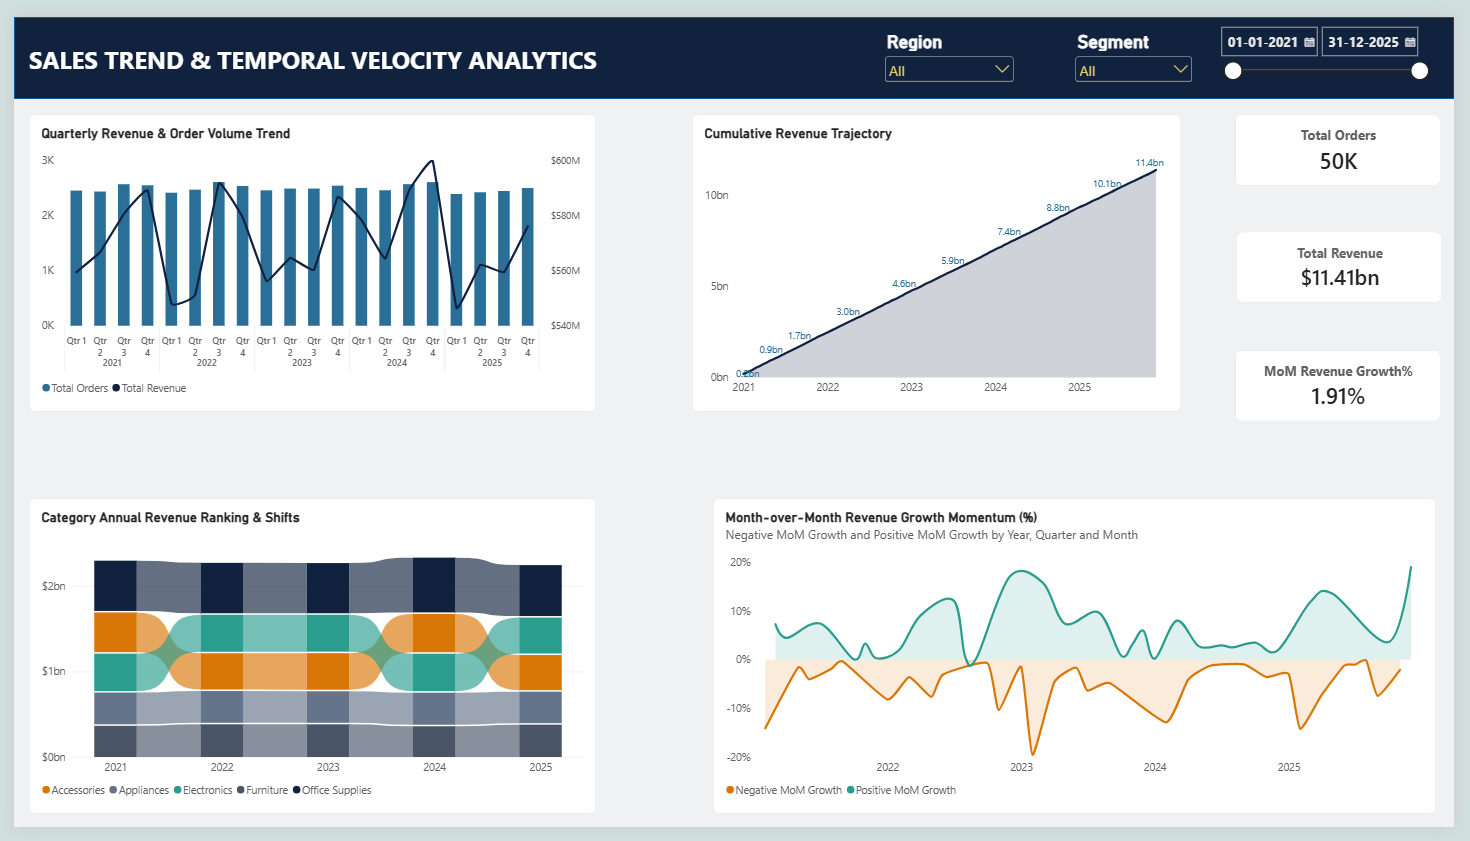

What the dashboard file says about the page in this screenshot:
{"tool":"powerbi","page":{"name":"Sales & Time Analysis","canvas":[1920,1080],"ordinal":3},"visuals":[{"type":"shape","box":[0,0,1920.3,109.4],"z":0},{"type":"textbox","box":[19.6,34.8,832.6,67.4],"z":1000},{"type":"slicer","fields":{"Values":["Employees.Region"]},"box":[1155.5,17.2,181.7,84],"z":2000},{"type":"slicer","fields":{"Values":["Customers.Segment"]},"box":[1409.2,17.2,165.8,86.3],"z":3000},{"type":"lineClusteredColumnComboChart","title":"Quarterly Revenue & Order Volume Trend","fields":{"Y":["CoreKPIs.Total Orders"],"Y2":["CoreKPIs.Total Revenue"],"Category":["DimDate.Date.Variation.Date Hierarchy.Year","DimDate.Date.Variation.Date Hierarchy.Quarter"]},"box":[20,130,756,396],"z":4000},{"type":"areaChart","title":"Cumulative Revenue Trajectory","fields":{"Y":["CoreKPIs.Running Total Revenue"],"Category":["DimDate.Date.Variation.Date Hierarchy.Year","DimDate.Date.Variation.Date Hierarchy.Month"]},"box":[904,130,652,396],"z":5000},{"type":"ribbonChart","title":"Category Annual Revenue Ranking & Shifts","fields":{"Category":["DimDate.Date.Variation.Date Hierarchy.Year","DimDate.Date.Variation.Date Hierarchy.Quarter","DimDate.Date.Variation.Date Hierarchy.Month","DimDate.Date.Variation.Date Hierarchy.Day"],"Y":["CoreKPIs.Total Revenue"],"Series":["Products.Category"]},"box":[20,642,756,420],"z":6000},{"type":"cardVisual","fields":{"Data":["CoreKPIs.Total Orders"]},"box":[1628.5,130.6,274.8,95.4],"z":7000},{"type":"cardVisual","fields":{"Data":["CoreKPIs.Total Revenue"]},"box":[1629.2,285.9,274.8,95.4],"z":8000},{"type":"cardVisual","fields":{"Data":["CoreKPIs.MoM Revenue Growth%"]},"box":[1628.5,443.5,274.8,95.4],"z":9000},{"type":"areaChart","title":"Month-over-Month Revenue Growth Momentum (%)","fields":{"Category":["DimDate.Date.Variation.Date Hierarchy.Year","DimDate.Date.Variation.Date Hierarchy.Quarter","DimDate.Date.Variation.Date Hierarchy.Month"],"Y":["CoreKPIs.Negative MoM Growth","CoreKPIs.Positive MoM Growth"]},"box":[932,642,964,420],"z":10000},{"type":"slicer","fields":{"Values":["DimDate.Date"]},"box":[1601.4,7.5,288.5,81.8],"z":11000}]}

Visuals, with their boxes in screenshot pixels (x1, y1, x2, y2), scaled from the page's 1920x1080 canvas onto the 1470x841 screenshot:
shape: x1=0, y1=0, x2=1469, y2=85
textbox: x1=15, y1=27, x2=652, y2=80
slicer - Employees.Region: x1=885, y1=13, x2=1024, y2=79
slicer - Customers.Segment: x1=1079, y1=13, x2=1206, y2=81
"Quarterly Revenue & Order Volume Trend" lineClusteredColumnComboChart: x1=15, y1=101, x2=594, y2=410
"Cumulative Revenue Trajectory" areaChart: x1=692, y1=101, x2=1191, y2=410
"Category Annual Revenue Ranking & Shifts" ribbonChart: x1=15, y1=500, x2=594, y2=827
cardVisual - CoreKPIs.Total Orders: x1=1247, y1=102, x2=1457, y2=176
cardVisual - CoreKPIs.Total Revenue: x1=1247, y1=223, x2=1458, y2=297
cardVisual - CoreKPIs.MoM Revenue Growth%: x1=1247, y1=345, x2=1457, y2=420
"Month-over-Month Revenue Growth Momentum (%)" areaChart: x1=714, y1=500, x2=1452, y2=827
slicer - DimDate.Date: x1=1226, y1=6, x2=1447, y2=70
